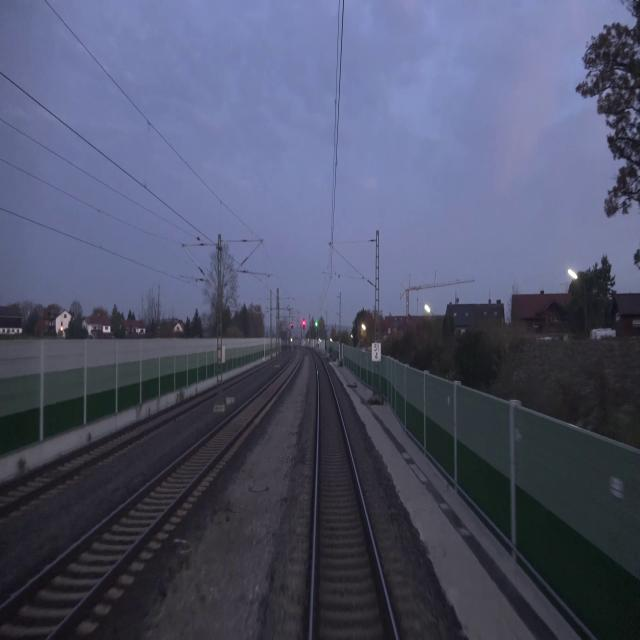rail-track: (2, 351, 299, 636), (314, 355, 394, 639), (0, 407, 179, 502)
